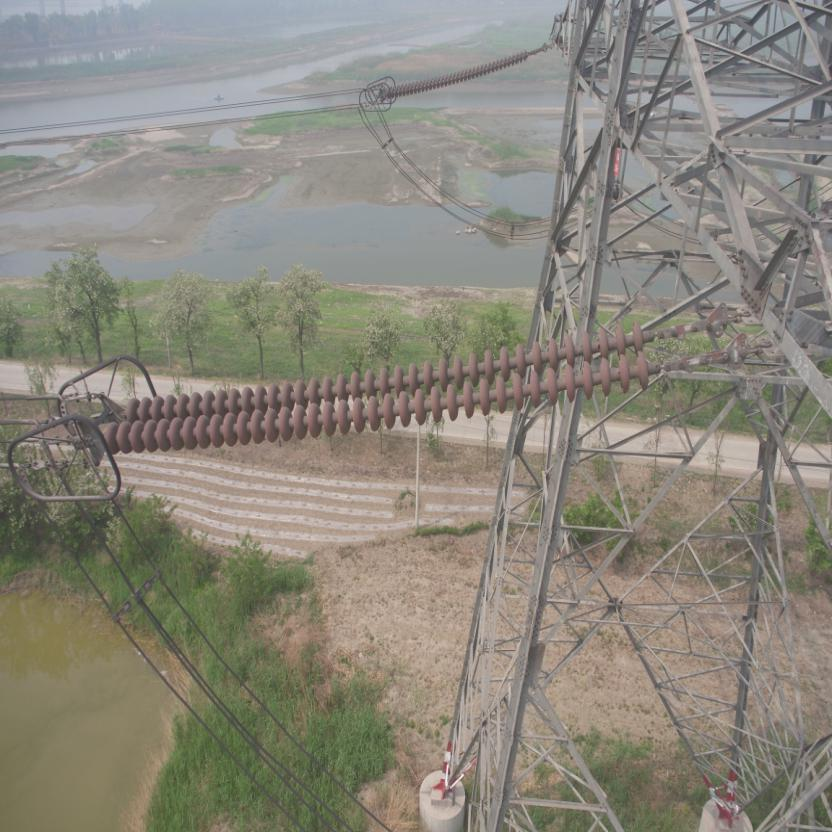insulator: (95, 316, 678, 459), (382, 45, 537, 99)
